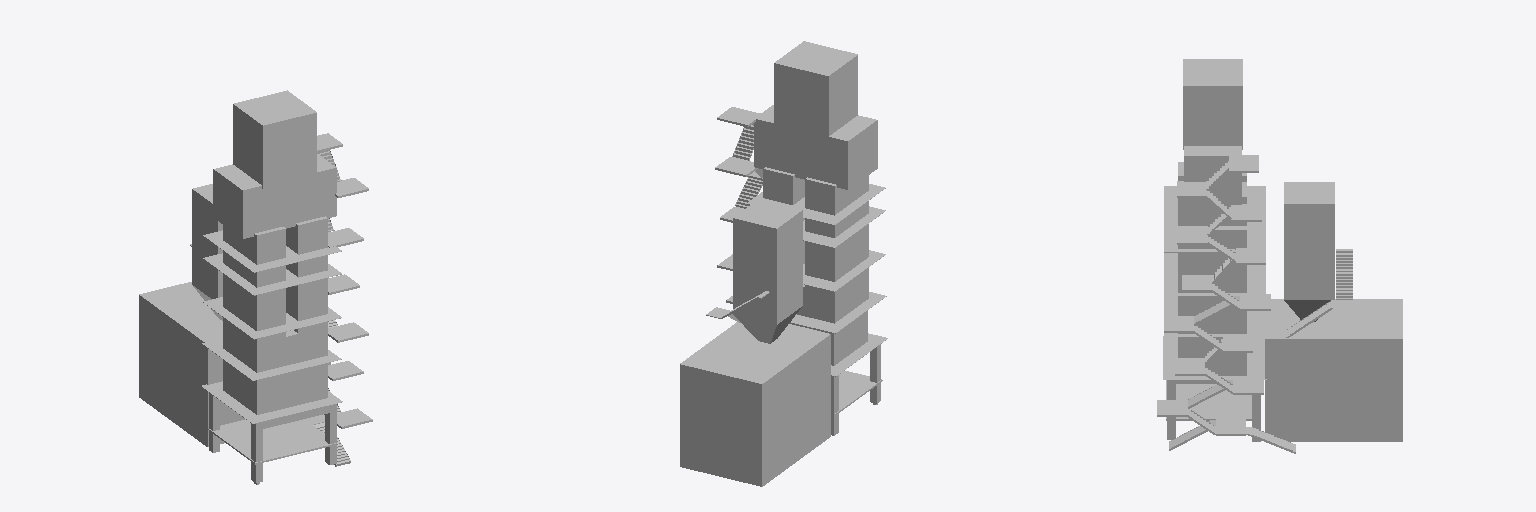
File: zvd.obj
The picture shows the model from 3 angles: view 1: azimuth 30°, elevation 25°; view 2: azimuth 150°, elevation 25°; view 3: azimuth 270°, elevation 25°; orthographic projection.
Parts seen in each view (by area): view 1: Cube.048, Cube.020, Cube.019, Cube.011, Cube.006, Cube.016, Cube.008, Cube.049, Cube.004, Cube.014, Cube.017, Cube.018 (+6 smaller); view 2: Cube.048, Cube.049, Cube.020, Cube.019, Cube.011, Cube.006, Cube.016, Cube.018, Cube.013, Cube.008, Cube.014, Cube.017 (+4 smaller); view 3: Cube.048, Cube.049, Cube.020, Cube.016, Cube.019, Cube.008, Cube.006, Cube.004, Cube.014, Cube.018, Cube.013, Cube.051 (+7 smaller).
Part boxes in pixels (x1,y1,x2,y2): Cube.048: (139, 282, 244, 446); Cube.020: (233, 90, 316, 188); Cube.019: (213, 154, 336, 238); Cube.011: (223, 225, 285, 372); Cube.006: (223, 330, 327, 414); Cube.016: (286, 216, 327, 362); Cube.008: (208, 419, 336, 464); Cube.049: (192, 184, 222, 320); Cube.004: (201, 381, 342, 423); Cube.014: (203, 297, 341, 339); Cube.017: (203, 253, 341, 295); Cube.018: (203, 230, 341, 272); Cube.048: (680, 322, 830, 486); Cube.049: (733, 199, 802, 343); Cube.020: (774, 41, 857, 139); Cube.019: (754, 105, 877, 189); Cube.011: (805, 175, 868, 323); Cube.006: (789, 284, 867, 365); Cube.016: (763, 167, 804, 263); Cube.018: (746, 184, 885, 224); Cube.013: (790, 292, 886, 333); Cube.008: (835, 371, 882, 415); Cube.014: (803, 250, 885, 291); Cube.017: (803, 206, 885, 247); Cube.048: (1265, 299, 1402, 441); Cube.049: (1284, 182, 1334, 321); Cube.020: (1183, 59, 1242, 149); Cube.016: (1178, 182, 1246, 333); Cube.019: (1184, 146, 1241, 204); Cube.008: (1166, 380, 1251, 420); Cube.006: (1178, 337, 1246, 375); Cube.004: (1163, 336, 1266, 379); Cube.014: (1164, 253, 1265, 295); Cube.018: (1164, 186, 1265, 229); Cube.013: (1164, 296, 1265, 336); Cube.051: (1336, 249, 1352, 299).
Bounding box in the file's own units: 16.74 × 45.53 × 28.77.